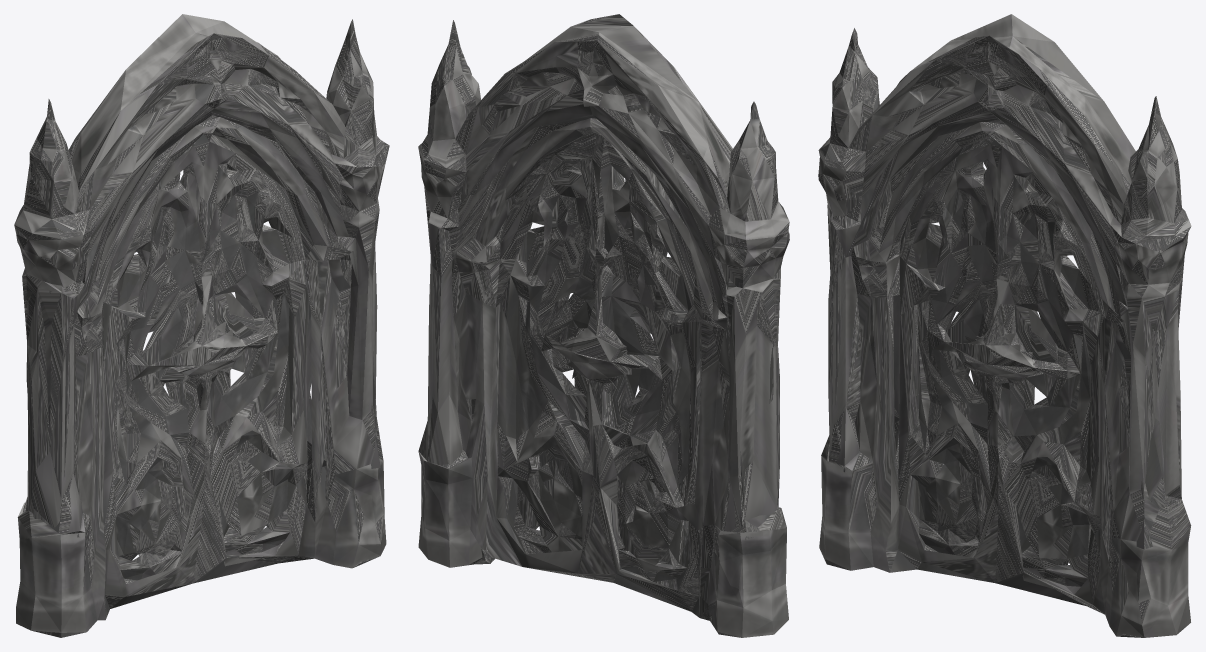
Rendered from chamber_door.glb.
3 renders of one model, left to right at view 1: azimuth 30°, elevation 25°; view 2: azimuth 150°, elevation 25°; view 3: azimuth 330°, elevation 25°, orthographic.
Parts seen in each view (by area): view 1: chamber_door; view 2: chamber_door; view 3: chamber_door.
Boxes of the visible parts, x1=… form: chamber_door: x1=14, y1=14, x2=389, y2=637; chamber_door: x1=418, y1=14, x2=789, y2=637; chamber_door: x1=818, y1=14, x2=1191, y2=637.
Size of the model in its own units: 2.34 by 3.49 by 0.4814.
Materials: 1 (1 with a texture image).
